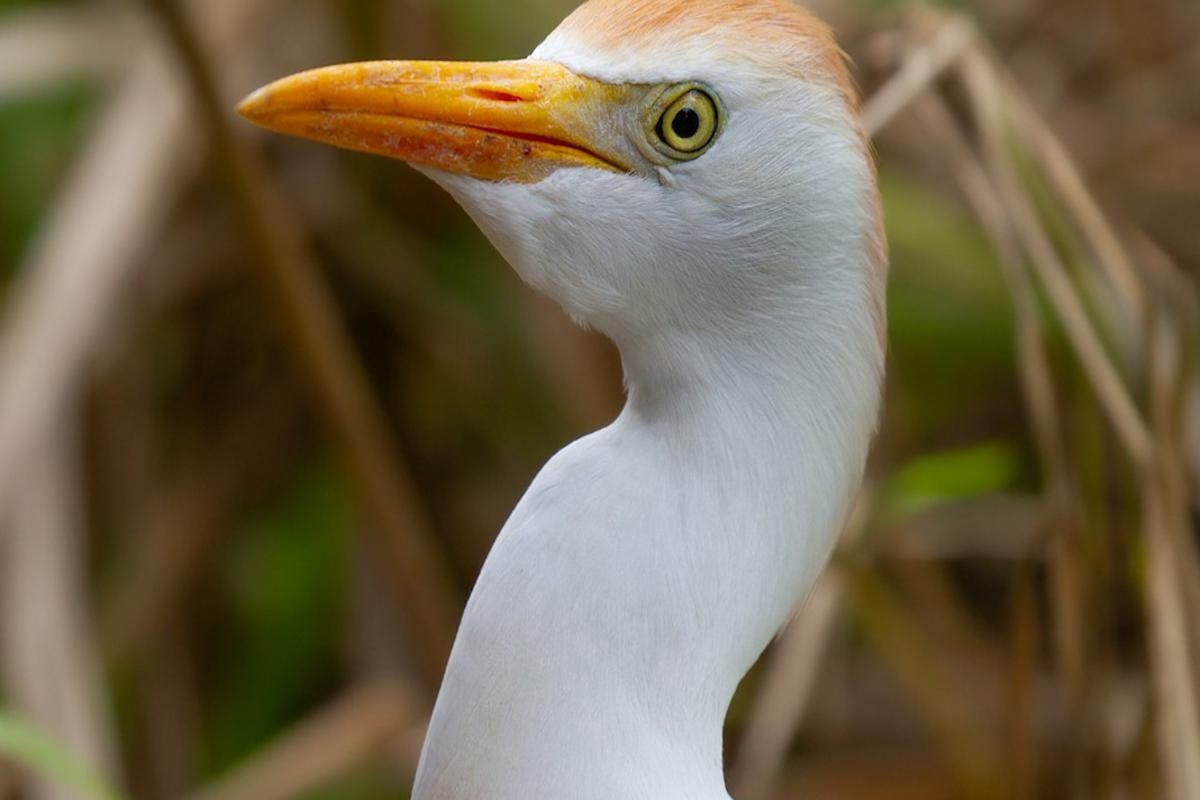egret: (238, 7, 897, 800)
